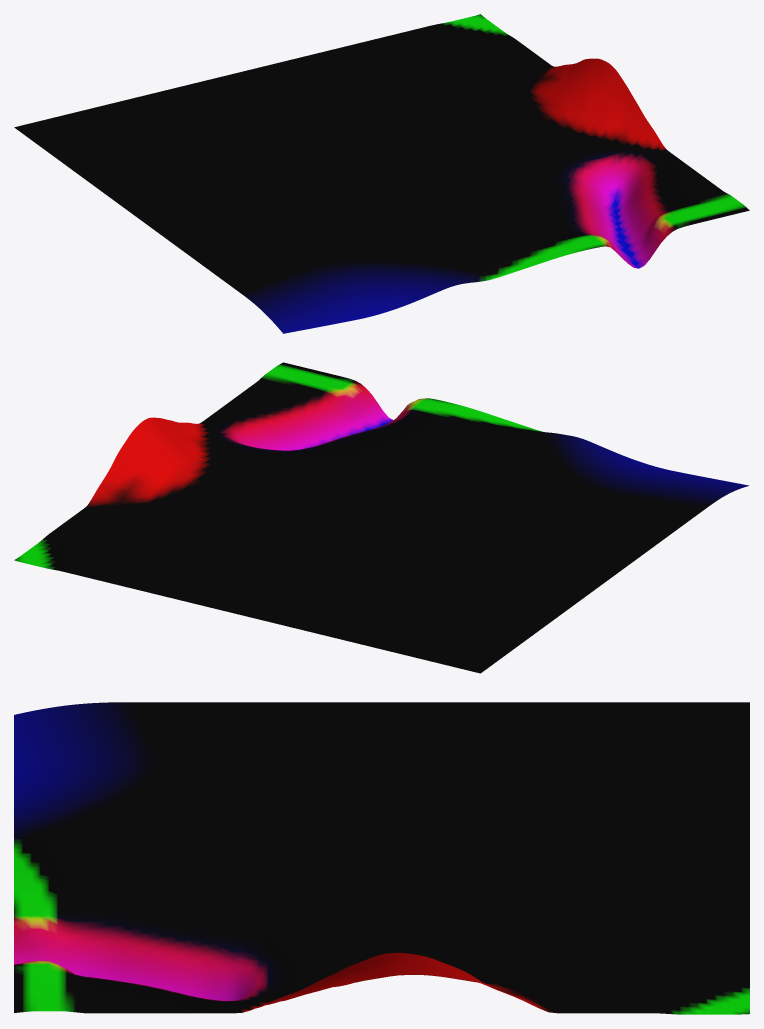
Rendered from SM_FutureCity_Terrain_1_2.fbx.
The picture shows the model from 3 angles, top to bottom: view 1: azimuth 30°, elevation 25°; view 2: azimuth 150°, elevation 25°; view 3: azimuth 270°, elevation 25°; orthographic projection. The views are drawn at different scales.
Visible parts, largest first — view 1: SM_FutureCity_Terrain_1_2; view 2: SM_FutureCity_Terrain_1_2; view 3: SM_FutureCity_Terrain_1_2.
Boxes of the visible parts, <box> form: SM_FutureCity_Terrain_1_2: <box>14,14,749,333</box>; SM_FutureCity_Terrain_1_2: <box>14,362,748,673</box>; SM_FutureCity_Terrain_1_2: <box>14,702,749,1014</box>.
Size of the model in its own units: 50400 by 7772 by 50400.
